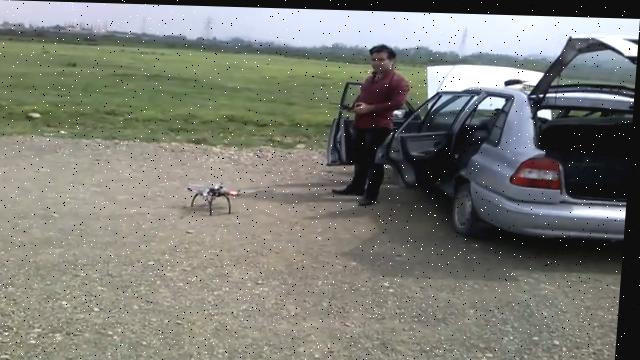drone: (186, 176, 250, 215)
